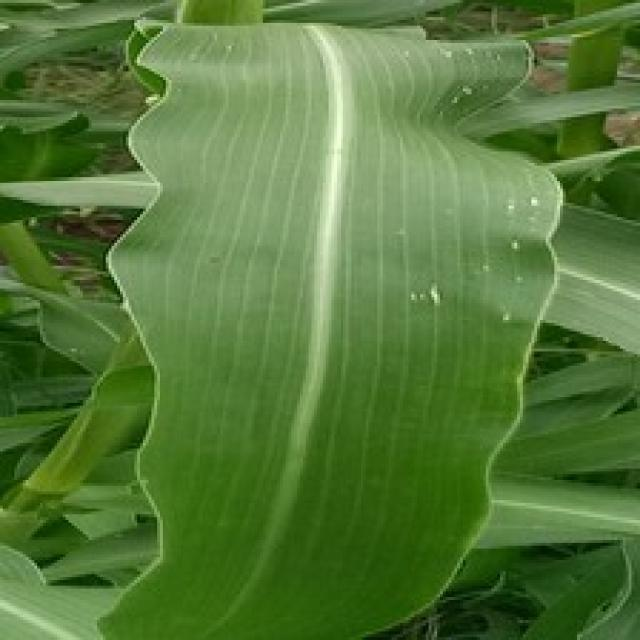Corn: (91, 17, 566, 637)
